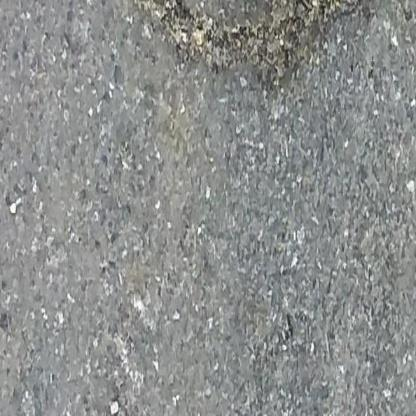Cracks: (116, 0, 368, 84)
